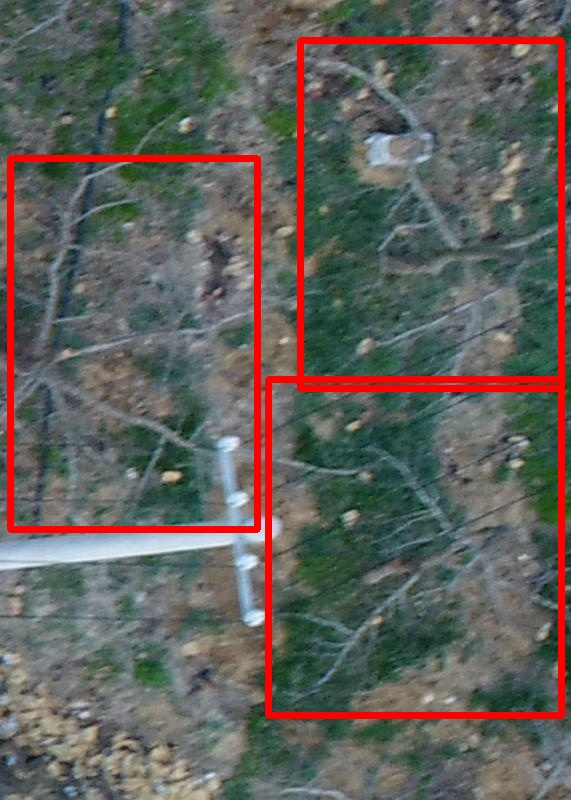apple: (268, 379, 561, 715), (10, 158, 257, 529), (300, 40, 561, 388)
